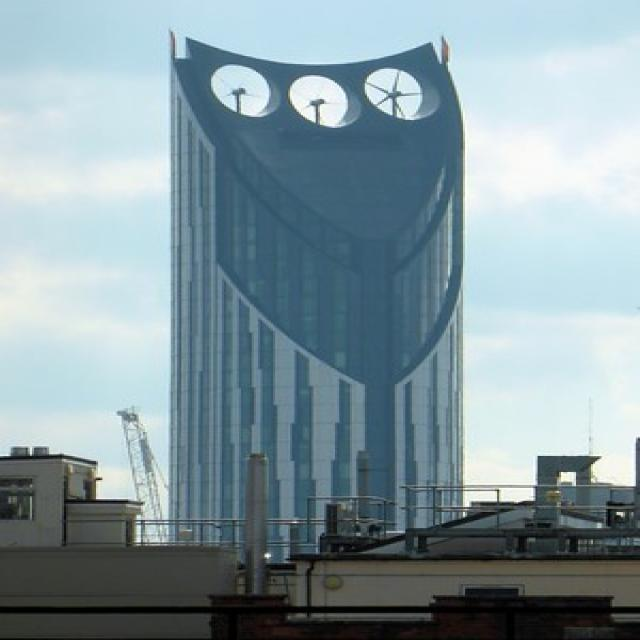building: (160, 26, 469, 556)
